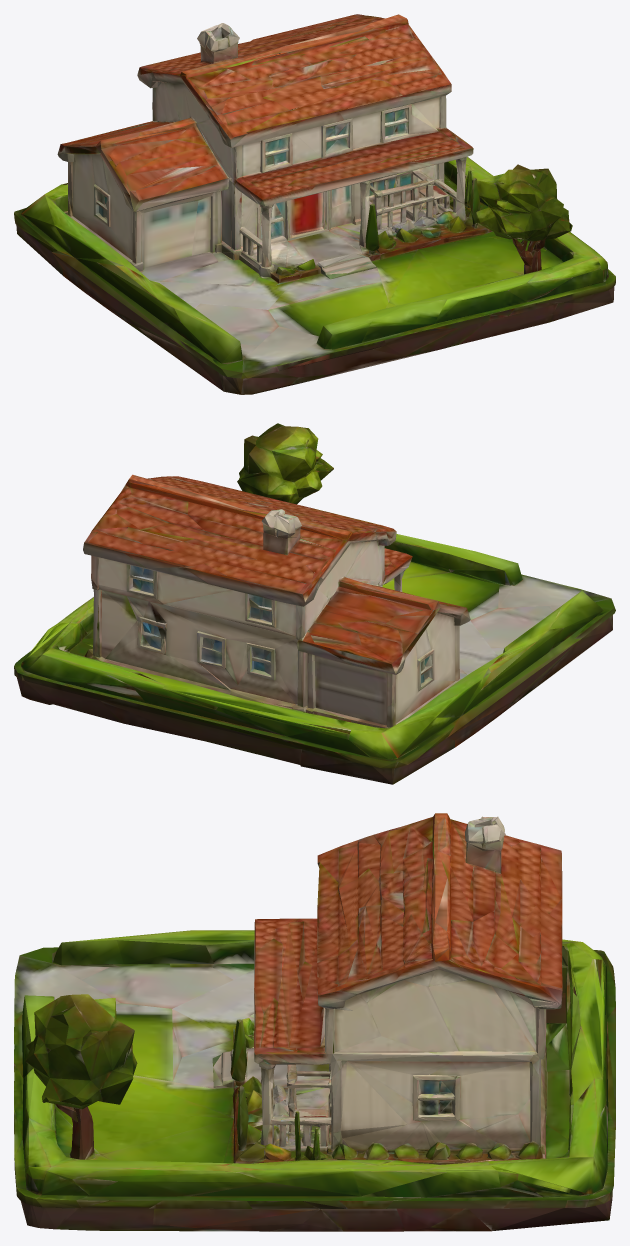
Rendered from town_house_modern.glb.
The picture shows the model from 3 angles, top to bottom: view 1: azimuth 30°, elevation 25°; view 2: azimuth 150°, elevation 25°; view 3: azimuth 270°, elevation 25°; orthographic projection. The views are drawn at different scales.
Parts seen in each view (by area): view 1: normalize; view 2: normalize; view 3: normalize.
Boxes of the visible parts, x1,y1,x2,y2 form: normalize: [14, 14, 615, 394]; normalize: [14, 423, 615, 784]; normalize: [14, 813, 615, 1231].
Size of the model in its own units: 0.9999 by 0.4919 by 1.
Materials: 1 (1 with a texture image).
